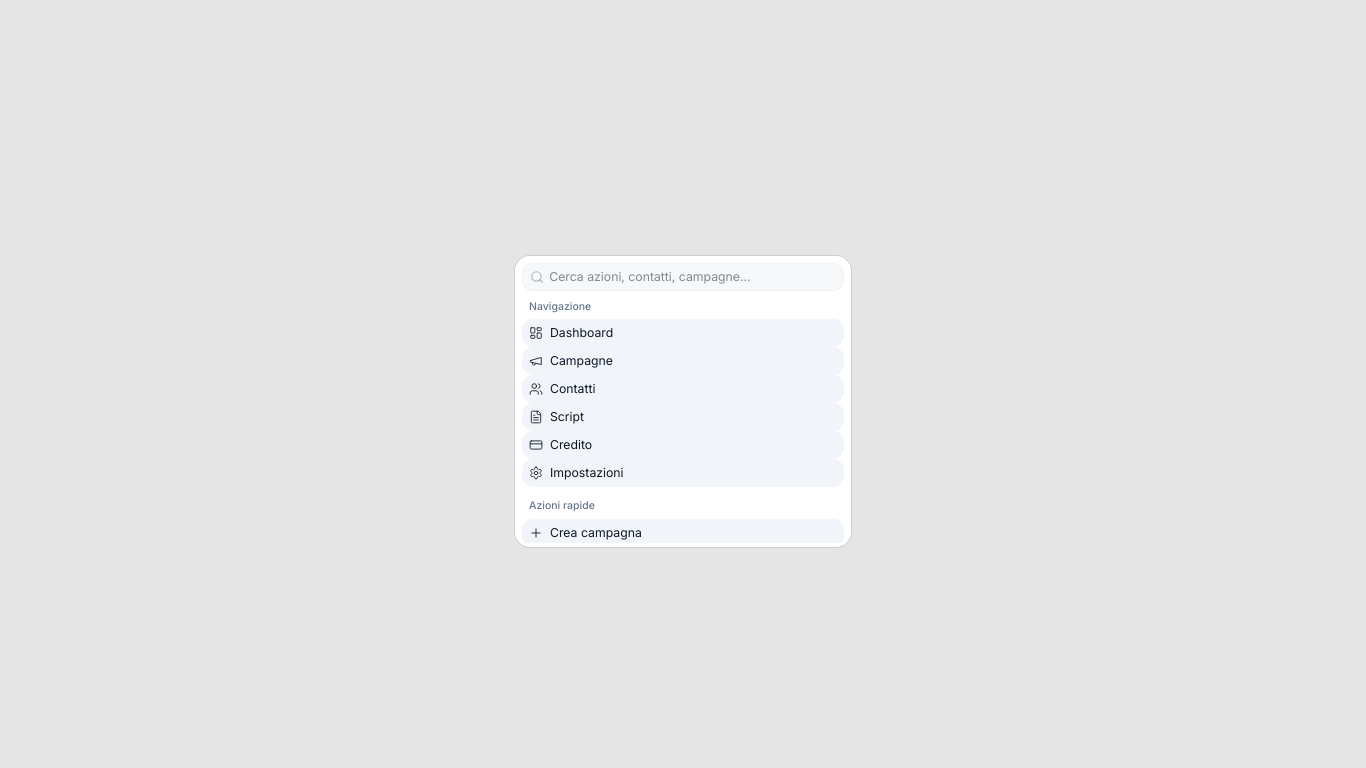
Test case: CommandPalette › server-side search › falls back to empty results when the action returns an error
Type "mario" into the dropdown with placeholder "Cerca azioni, contatti, campagne…".
click(694, 277); type("mario")  # box [544, 268, 843, 286]
Wait 250 ms
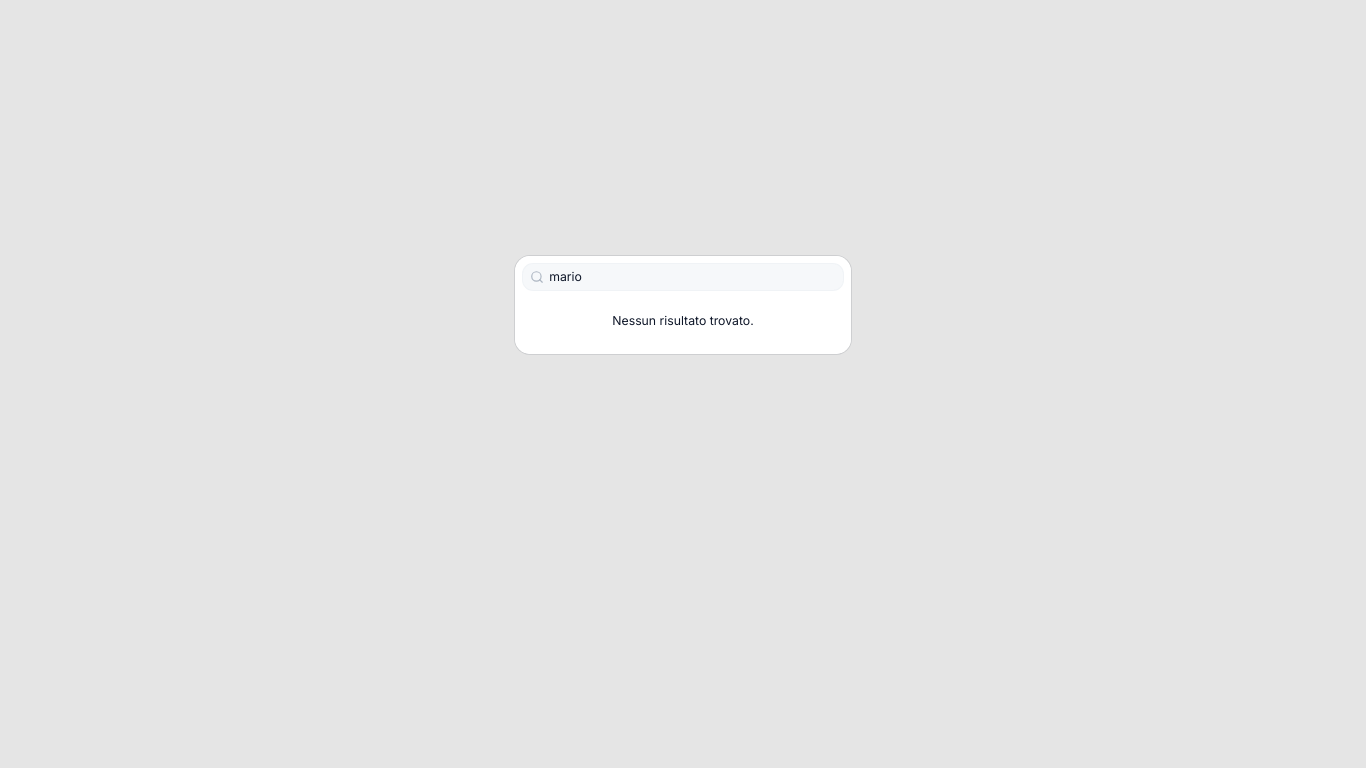
Now the option "Contatti" is gone
Now the option "Campagne" is gone
Now the option "Script" is gone
